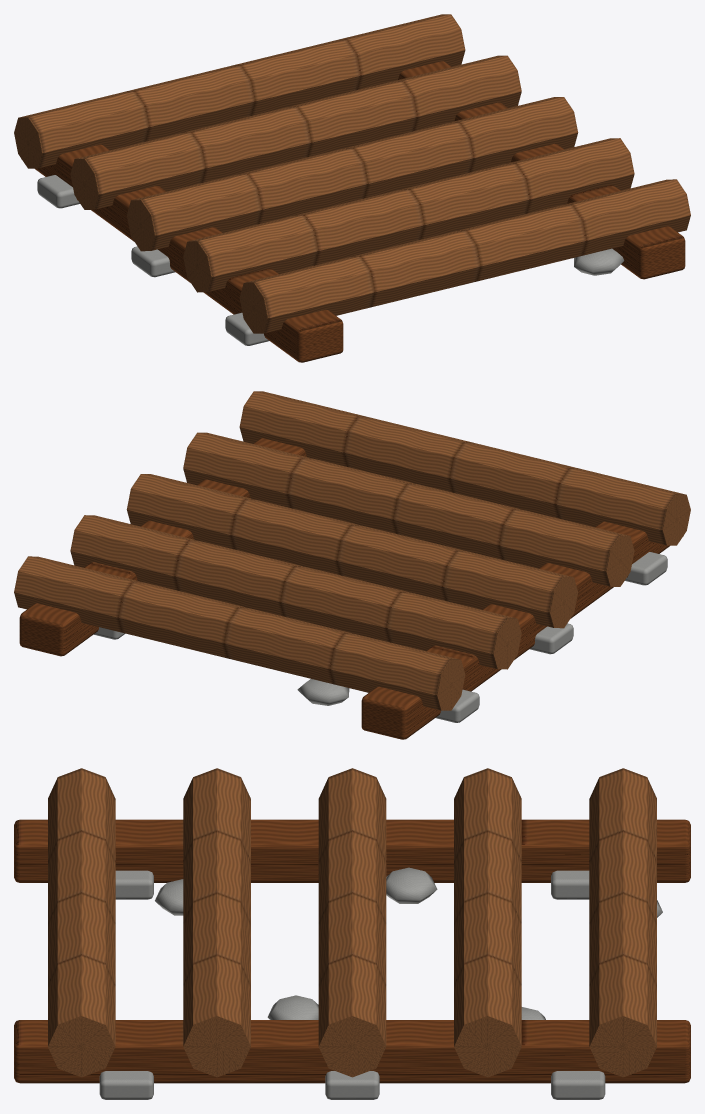
The model's file is viking-age-longhouse-and-longship-boat-roller-slipway-c82608d3__30191.glb.
The picture shows the model from 3 angles, top to bottom: view 1: azimuth 30°, elevation 25°; view 2: azimuth 150°, elevation 25°; view 3: azimuth 270°, elevation 25°; orthographic projection. The views are drawn at different scales.
Parts seen in each view (by area): view 1: boat-roller-slipway; view 2: boat-roller-slipway; view 3: boat-roller-slipway.
Part boxes in pixels (x1=…): boat-roller-slipway: x1=14, y1=14, x2=690, y2=362; boat-roller-slipway: x1=14, y1=391, x2=690, y2=739; boat-roller-slipway: x1=14, y1=768, x2=690, y2=1099.
Bounding box in the file's own units: 2.6 × 0.4199 × 3.
3 materials, 3 textured.
